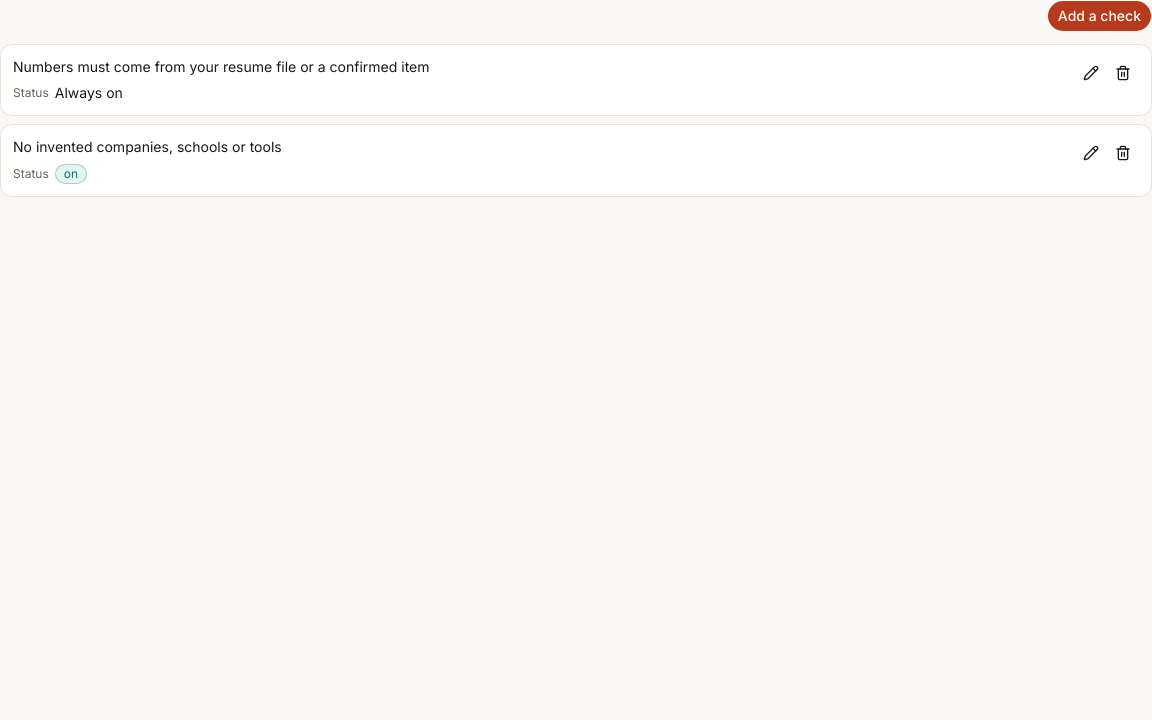
Test: GuardrailsTab › shows the always-on rule as text, never as a switch, but keeps it editable
Check: the text "Always on" is shown, box 55,84 -> 123,101
Click the button named "edit numbers must come from your resume file or a confirmed item": click(1091, 73) 1075,57 -> 1107,89
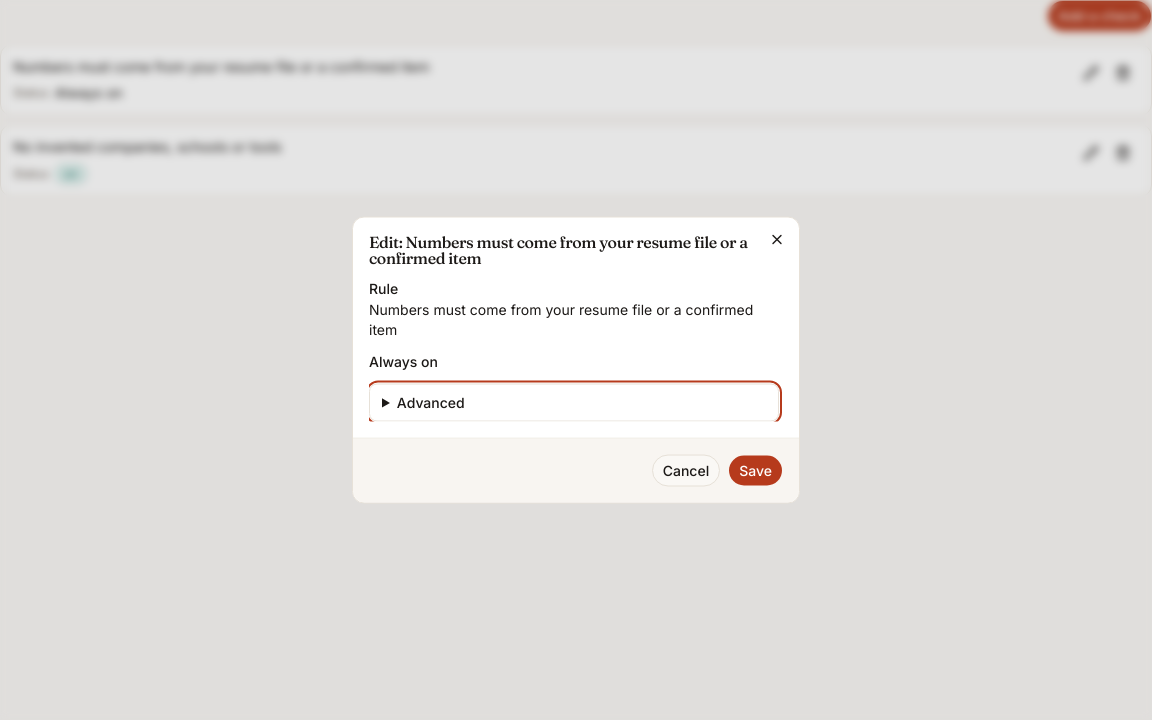
Check: the button "Save" is shown, box 728,454 -> 783,486
